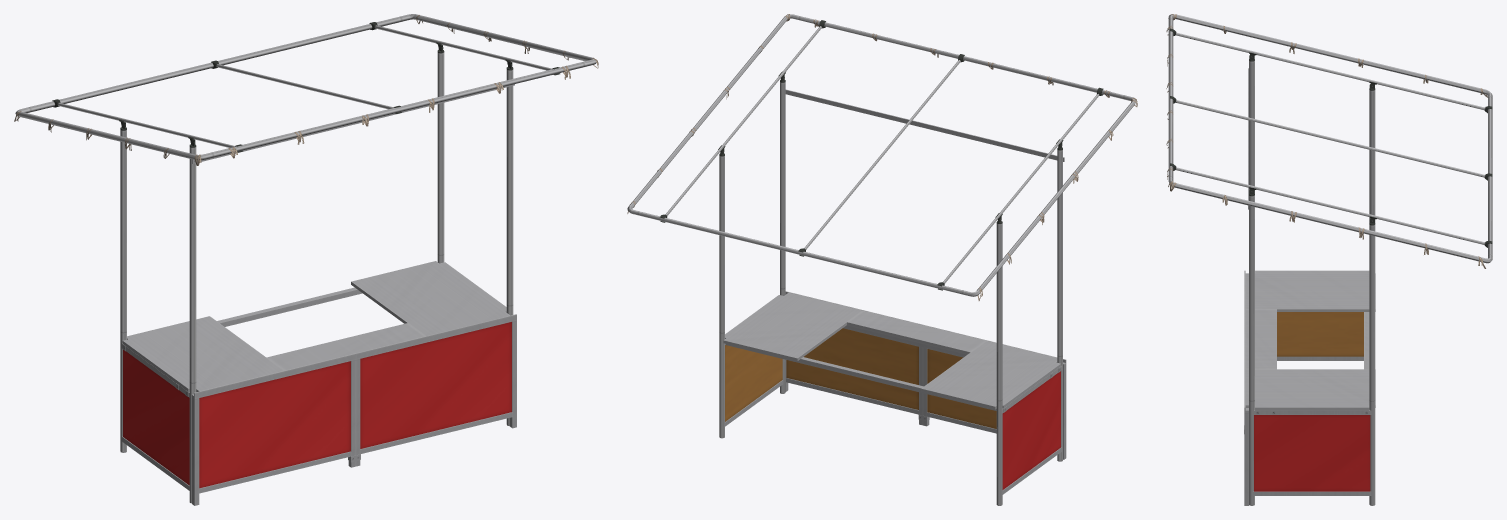
Rendered from jsf_4P_s02_c06_t02.fbx.
3 renders of one model, left to right at view 1: azimuth 30°, elevation 25°; view 2: azimuth 150°, elevation 25°; view 3: azimuth 270°, elevation 25°, orthographic. The views are drawn at different scales.
Visible parts, largest first — view 1: Base_s02_c06, Pillar4_s02, Table_4P_s02_t02, Rope_4P_s02; view 2: Base_s02_c06, Pillar4_s02, Table_4P_s02_t02, Rope_4P_s02; view 3: Base_s02_c06, Pillar4_s02, Table_4P_s02_t02, Rope_4P_s02.
Part boxes in pixels (<box>): Base_s02_c06: <box>121,314,516,505</box>; Pillar4_s02: <box>15,14,596,503</box>; Table_4P_s02_t02: <box>122,261,509,396</box>; Rope_4P_s02: <box>14,15,598,165</box>; Base_s02_c06: <box>725,291,1066,494</box>; Pillar4_s02: <box>627,14,1136,505</box>; Table_4P_s02_t02: <box>723,292,1061,412</box>; Rope_4P_s02: <box>627,14,1137,300</box>; Base_s02_c06: <box>1244,270,1371,505</box>; Pillar4_s02: <box>1168,14,1492,505</box>; Table_4P_s02_t02: <box>1245,270,1375,414</box>; Rope_4P_s02: <box>1166,14,1487,268</box>.
Bounding box in the file's own units: 264 × 243 × 211.
